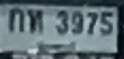txt01: (7, 7, 25, 33)
txt18: (27, 8, 44, 34)
